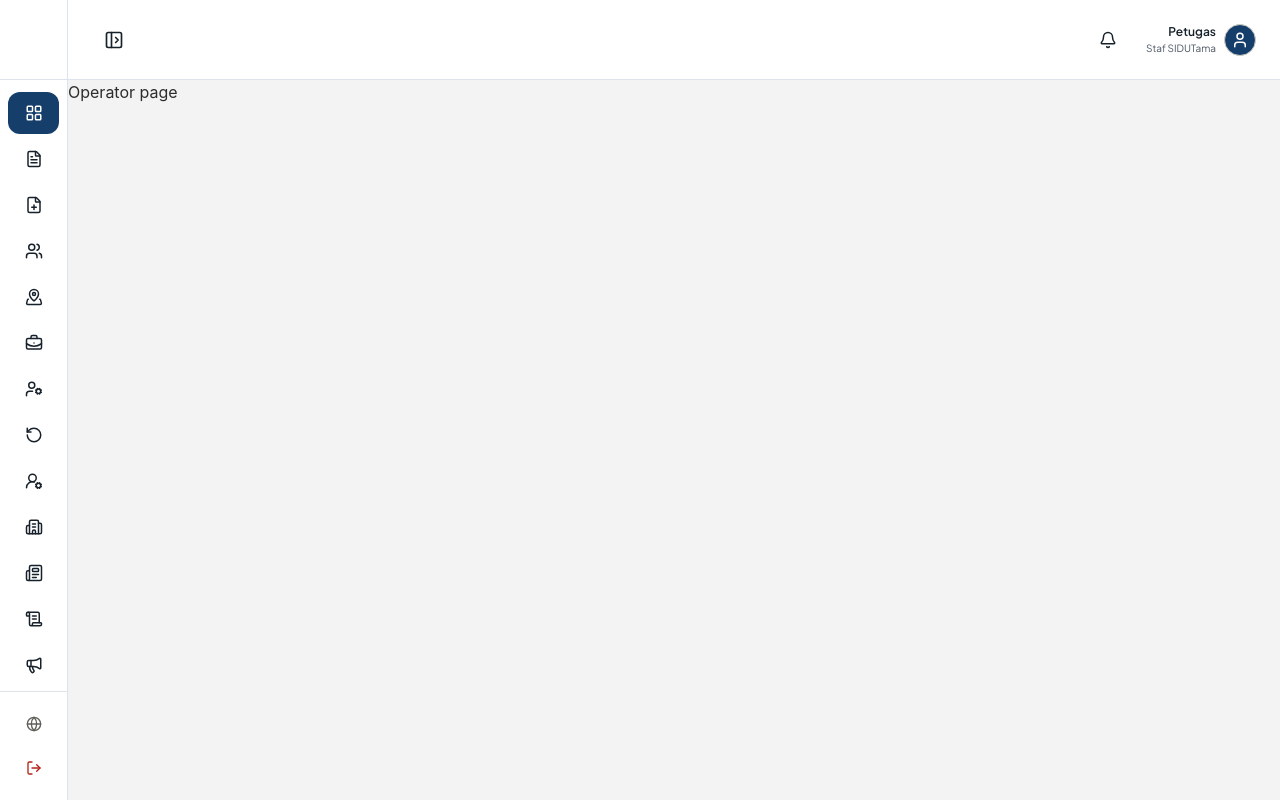
Scenario: OperatorDesaLayout sidebar › opens on mobile and collapses again after navigating
Click the button named "Perluas menu" at [114, 40], box [92,18,136,62]
(page scrolled)
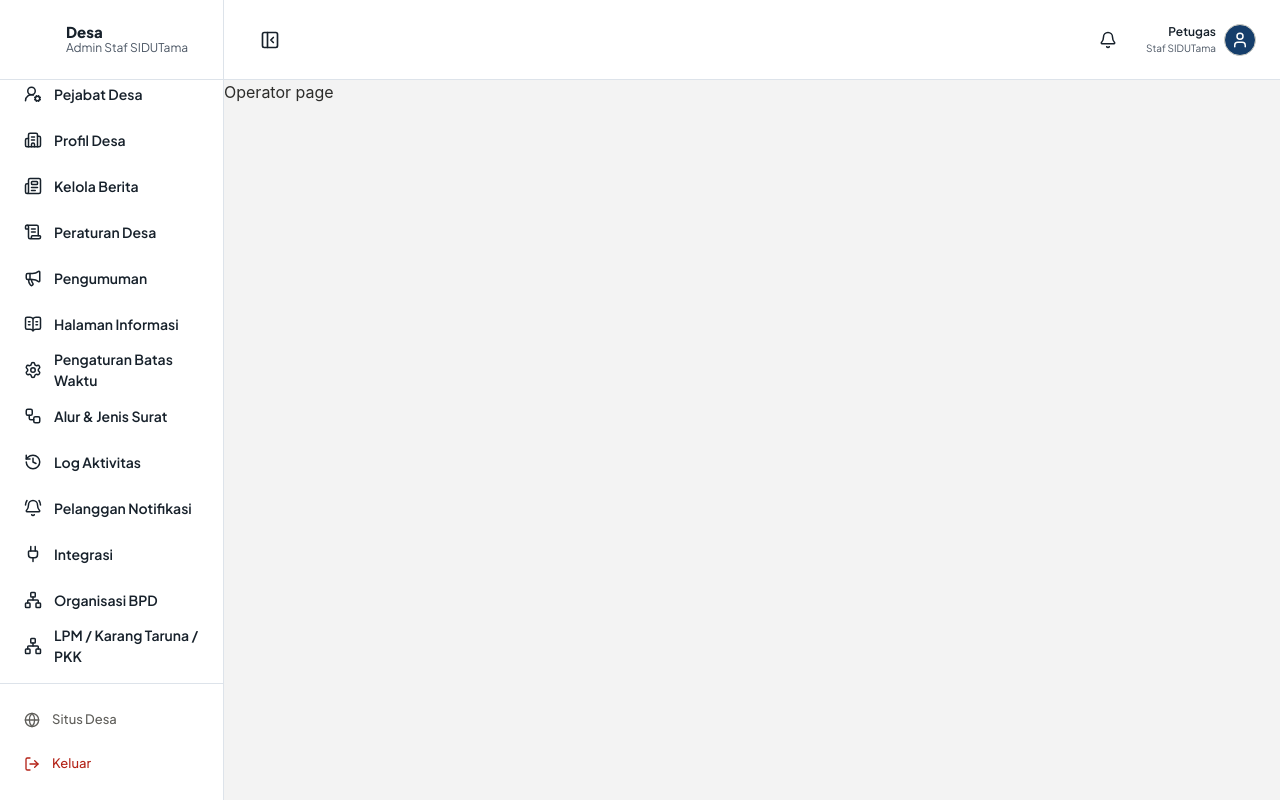
expect the element with class "sid-operator-layout" has class "is-mobile-open": met
expect the element with class "sid-operator-layout" does not have class "is-rail": met
Click the link "Log Aktivitas" at [82, 462], box [24,452,141,471]
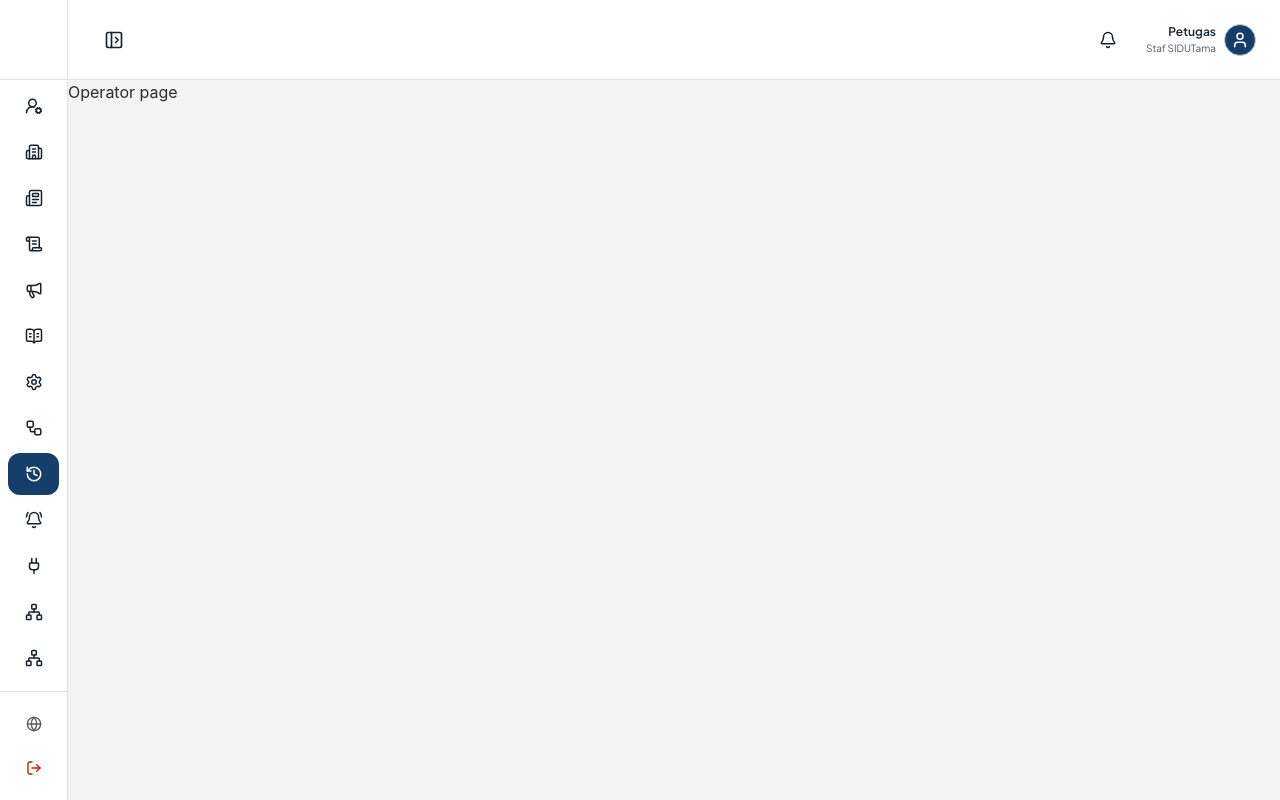
expect the element with class "sid-operator-layout" has class "is-rail": met
expect the element with class "sid-operator-layout" does not have class "is-mobile-open": met
